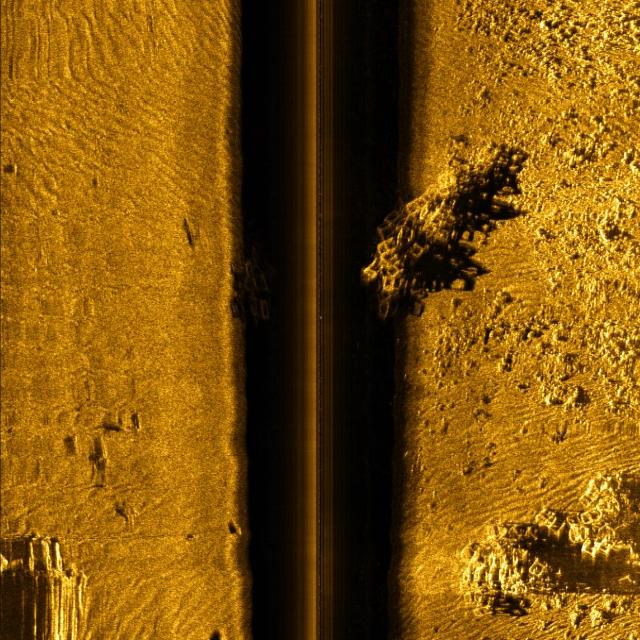artificial reef: (445, 457, 640, 629), (348, 136, 532, 313), (223, 241, 288, 342)
